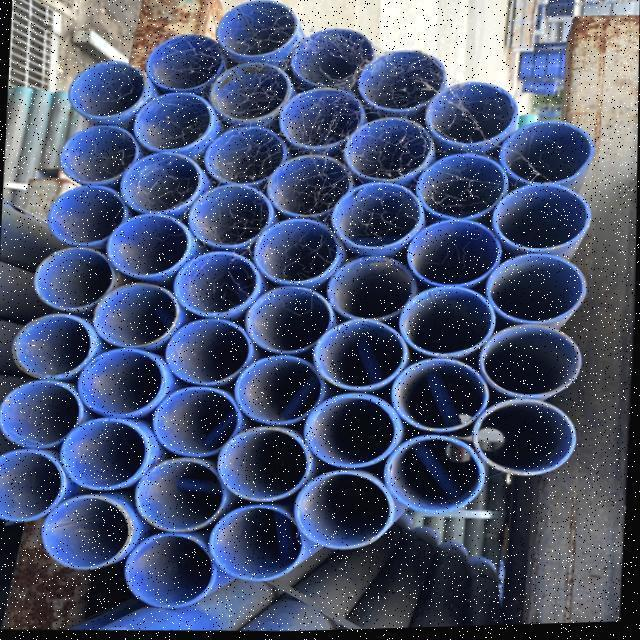pipe: (292, 468, 394, 553), (487, 184, 589, 264), (475, 404, 575, 481), (478, 326, 580, 400), (423, 82, 517, 162), (207, 507, 301, 586), (39, 492, 133, 571), (122, 531, 217, 609), (214, 426, 308, 504), (485, 255, 585, 328), (300, 395, 397, 470), (387, 441, 483, 516), (57, 416, 153, 491), (394, 287, 493, 359), (149, 379, 238, 458), (310, 319, 406, 391), (133, 457, 223, 533), (402, 219, 500, 288), (230, 353, 320, 428), (266, 154, 360, 225), (397, 361, 486, 434), (248, 217, 342, 286), (74, 345, 163, 417), (498, 122, 592, 190), (168, 248, 259, 317), (240, 286, 330, 355), (327, 180, 420, 246), (322, 257, 415, 323), (413, 154, 507, 219), (99, 213, 190, 280), (160, 317, 249, 385), (90, 281, 179, 349), (6, 312, 93, 380), (339, 118, 430, 183), (352, 50, 443, 113), (184, 182, 270, 248), (111, 151, 197, 217), (274, 88, 361, 153), (0, 377, 79, 448), (285, 28, 371, 93), (202, 61, 291, 123), (30, 245, 111, 313), (130, 91, 216, 155), (42, 181, 126, 246), (199, 122, 285, 185), (210, 0, 299, 60), (140, 33, 227, 91), (54, 124, 138, 184), (64, 58, 144, 120), (0, 449, 61, 523)
